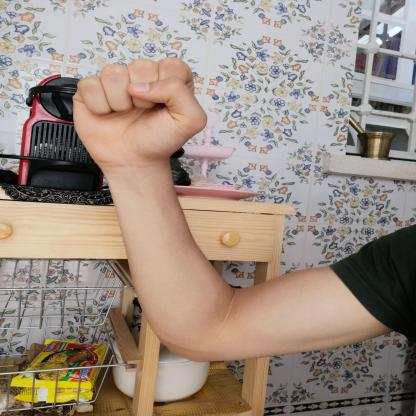SAD: (56, 48, 220, 182)
